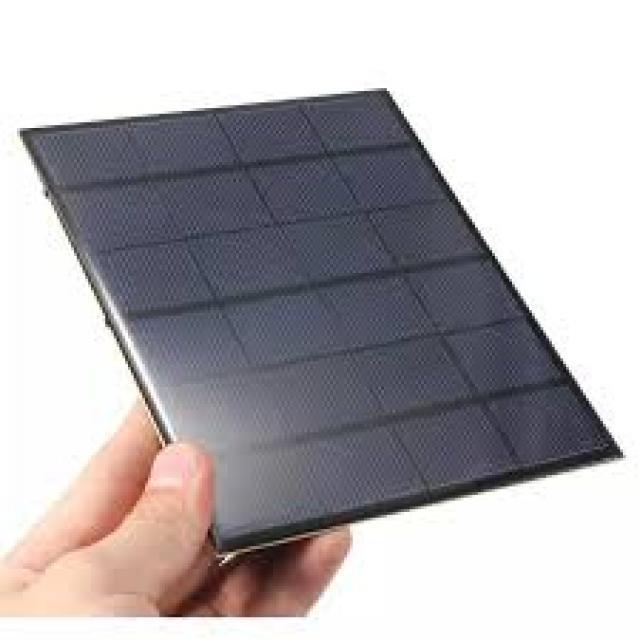no faulty: (25, 91, 622, 550)
